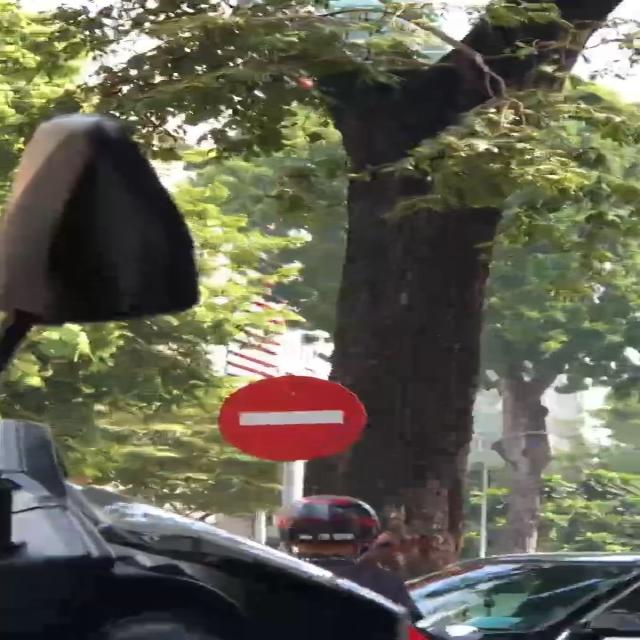Bien bao cam di nguoc chieu: (215, 372, 381, 468)
